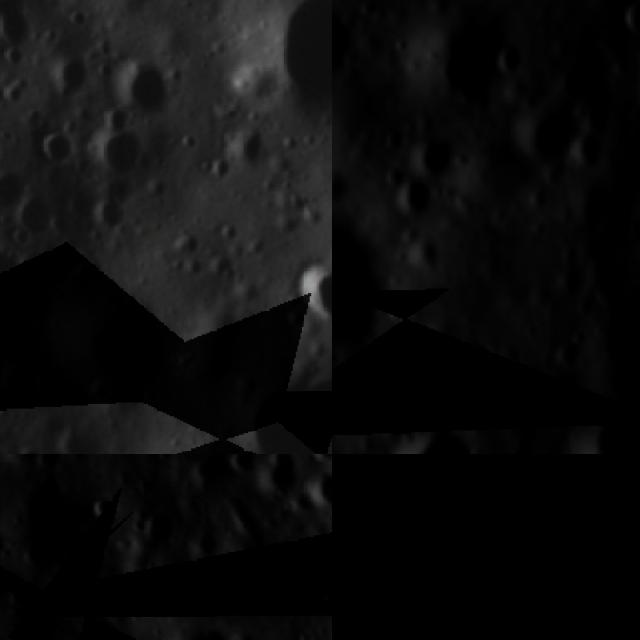crater: (66, 291, 178, 420), (332, 195, 393, 364), (261, 0, 332, 127), (226, 454, 332, 535), (545, 483, 633, 571), (332, 454, 480, 506), (363, 407, 511, 454), (167, 454, 268, 522), (121, 599, 280, 640), (102, 48, 180, 128), (204, 556, 278, 630), (563, 394, 640, 454), (355, 519, 421, 587), (85, 128, 153, 188), (282, 251, 332, 331), (8, 183, 71, 243), (41, 48, 104, 108), (22, 114, 82, 174), (536, 368, 596, 425), (379, 565, 437, 623), (0, 238, 35, 327), (396, 162, 445, 223), (84, 486, 138, 540), (0, 353, 47, 412), (0, 0, 38, 66), (0, 155, 38, 218), (419, 131, 468, 177), (487, 33, 528, 78), (573, 122, 614, 162), (332, 5, 355, 76), (306, 563, 332, 625), (615, 0, 640, 38)
